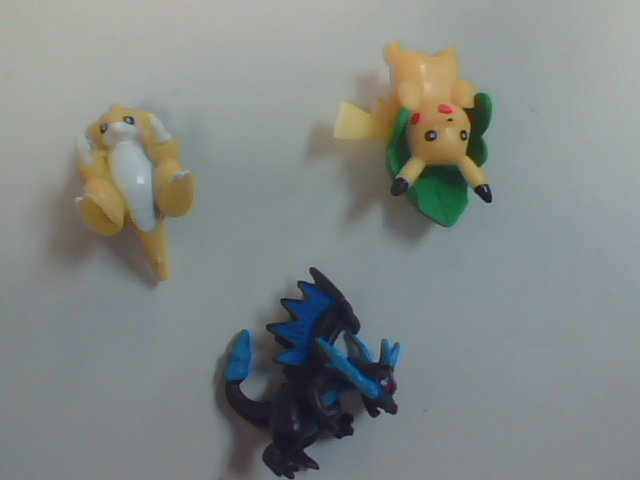charizard: (225, 264, 451, 480)
pikachu: (331, 37, 535, 244)
sandslash: (26, 99, 208, 294)
